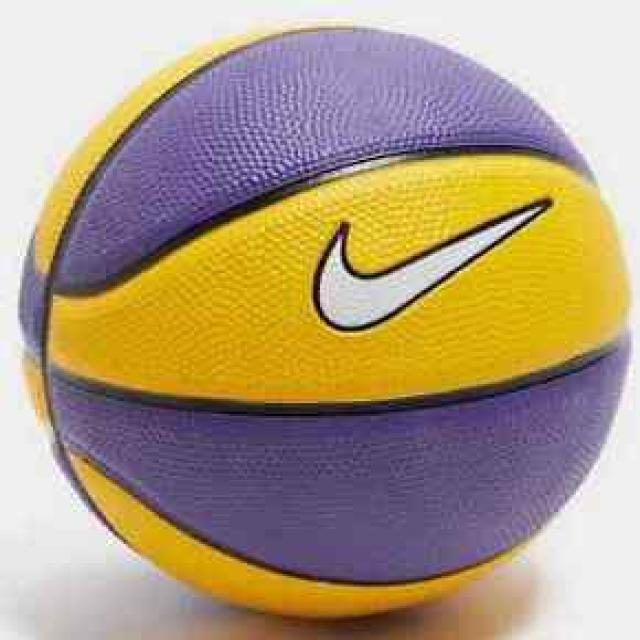ball: (8, 18, 639, 627)
